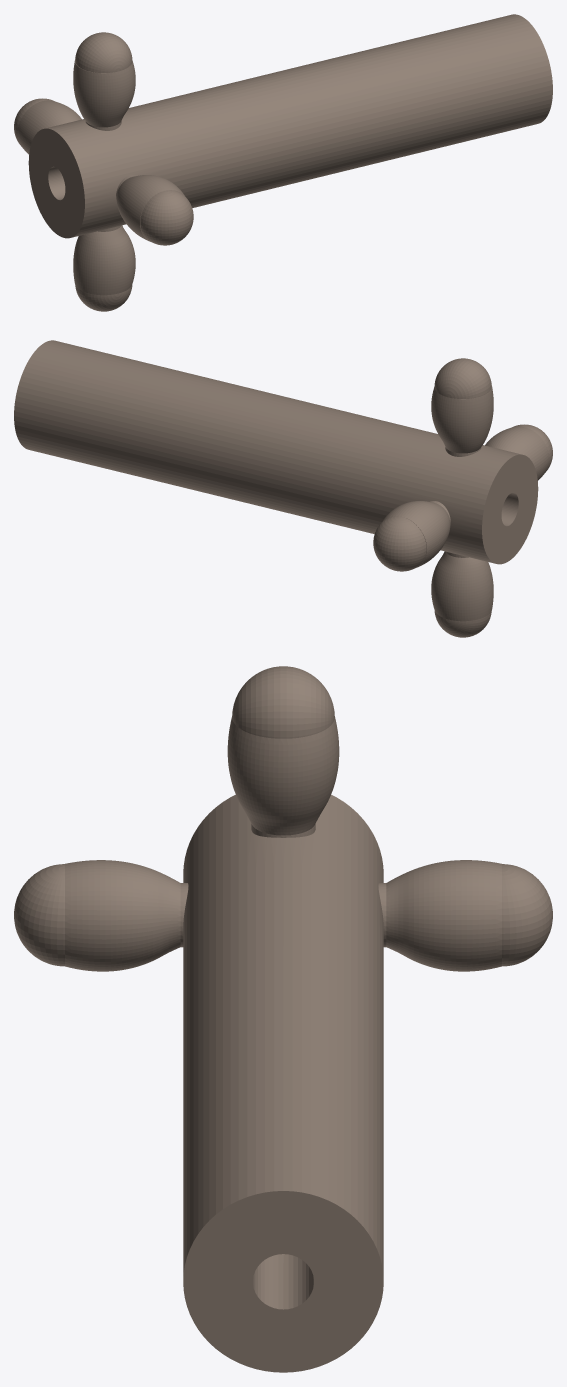
The model's file is 3.2.1.6 Active Mechanism.glb.
The picture shows the model from 3 angles, top to bottom: view 1: azimuth 30°, elevation 25°; view 2: azimuth 150°, elevation 25°; view 3: azimuth 270°, elevation 25°; orthographic projection. The views are drawn at different scales.
Parts seen in each view (by area): view 1: empty_2; view 2: empty_2; view 3: empty_2.
Part boxes in pixels (x1,y1,x2,y2): empty_2: (14, 14, 552, 311); empty_2: (14, 340, 552, 637); empty_2: (14, 666, 552, 1372).
Bounding box in the file's own units: 75 × 41.94 × 41.94.
